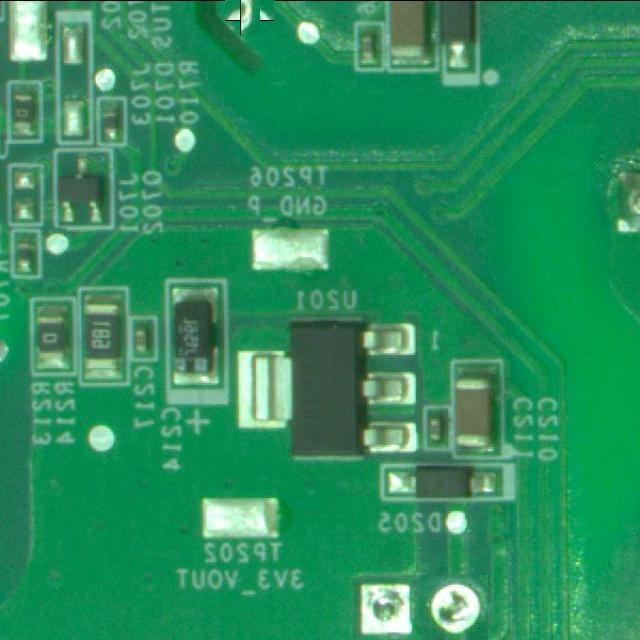lack_of_part: (347, 571, 416, 640), (422, 575, 489, 640), (232, 0, 267, 28)
